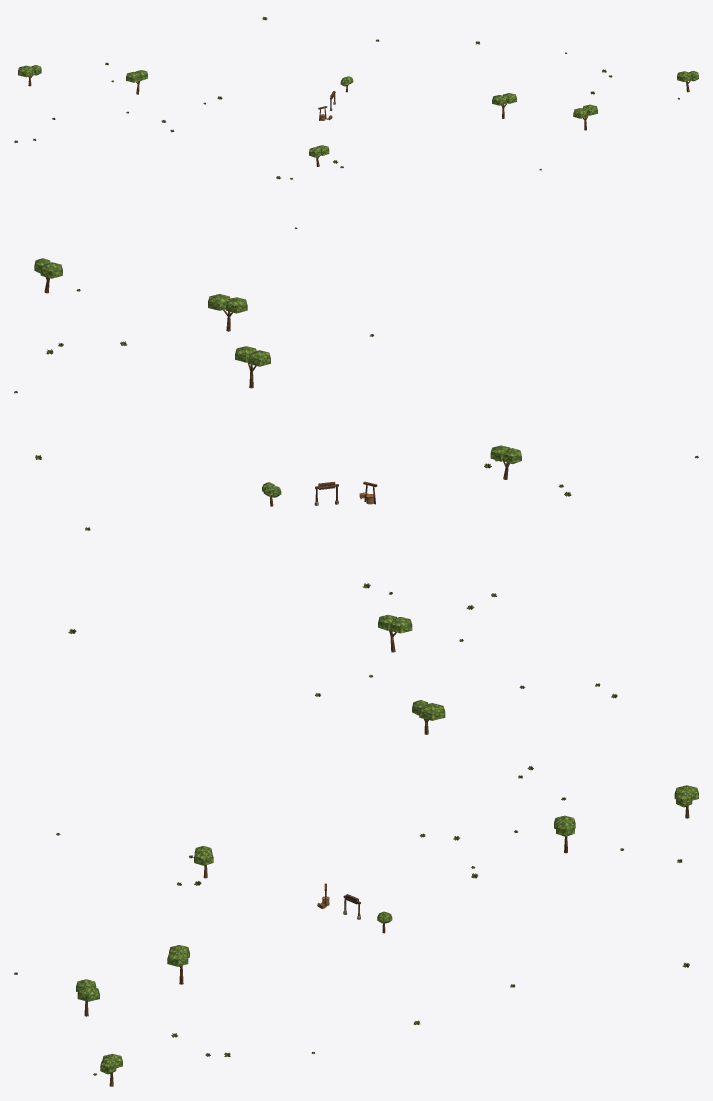
The model's file is FieldCell_1_2.fbx.
3 views of the same model, one above another, from view 1: azimuth 30°, elevation 25°; view 2: azimuth 150°, elevation 25°; view 3: azimuth 270°, elevation 25° (orthographic). The views are drawn at different scales.
Parts seen in each view (by area): view 1: FieldCell_1_2; view 2: FieldCell_1_2; view 3: FieldCell_1_2.
Part boxes in pixels (x1=…): FieldCell_1_2: x1=18, y1=65, x2=698, y2=166; FieldCell_1_2: x1=34, y1=258, x2=521, y2=734; FieldCell_1_2: x1=76, y1=785, x2=698, y2=1086.
Bounding box in the file's own units: 16537 × 1551 × 12963.
